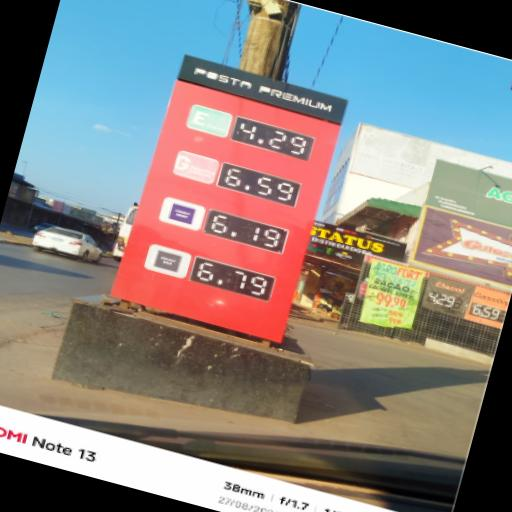ETANOL: (188, 106, 232, 137)
GASOLINA C: (172, 150, 222, 185)
S10: (143, 244, 189, 276)
S500: (160, 198, 202, 230)
placa: (122, 54, 347, 340)
preco: (232, 116, 314, 162), (205, 209, 286, 252), (192, 258, 274, 299), (224, 166, 300, 206)
